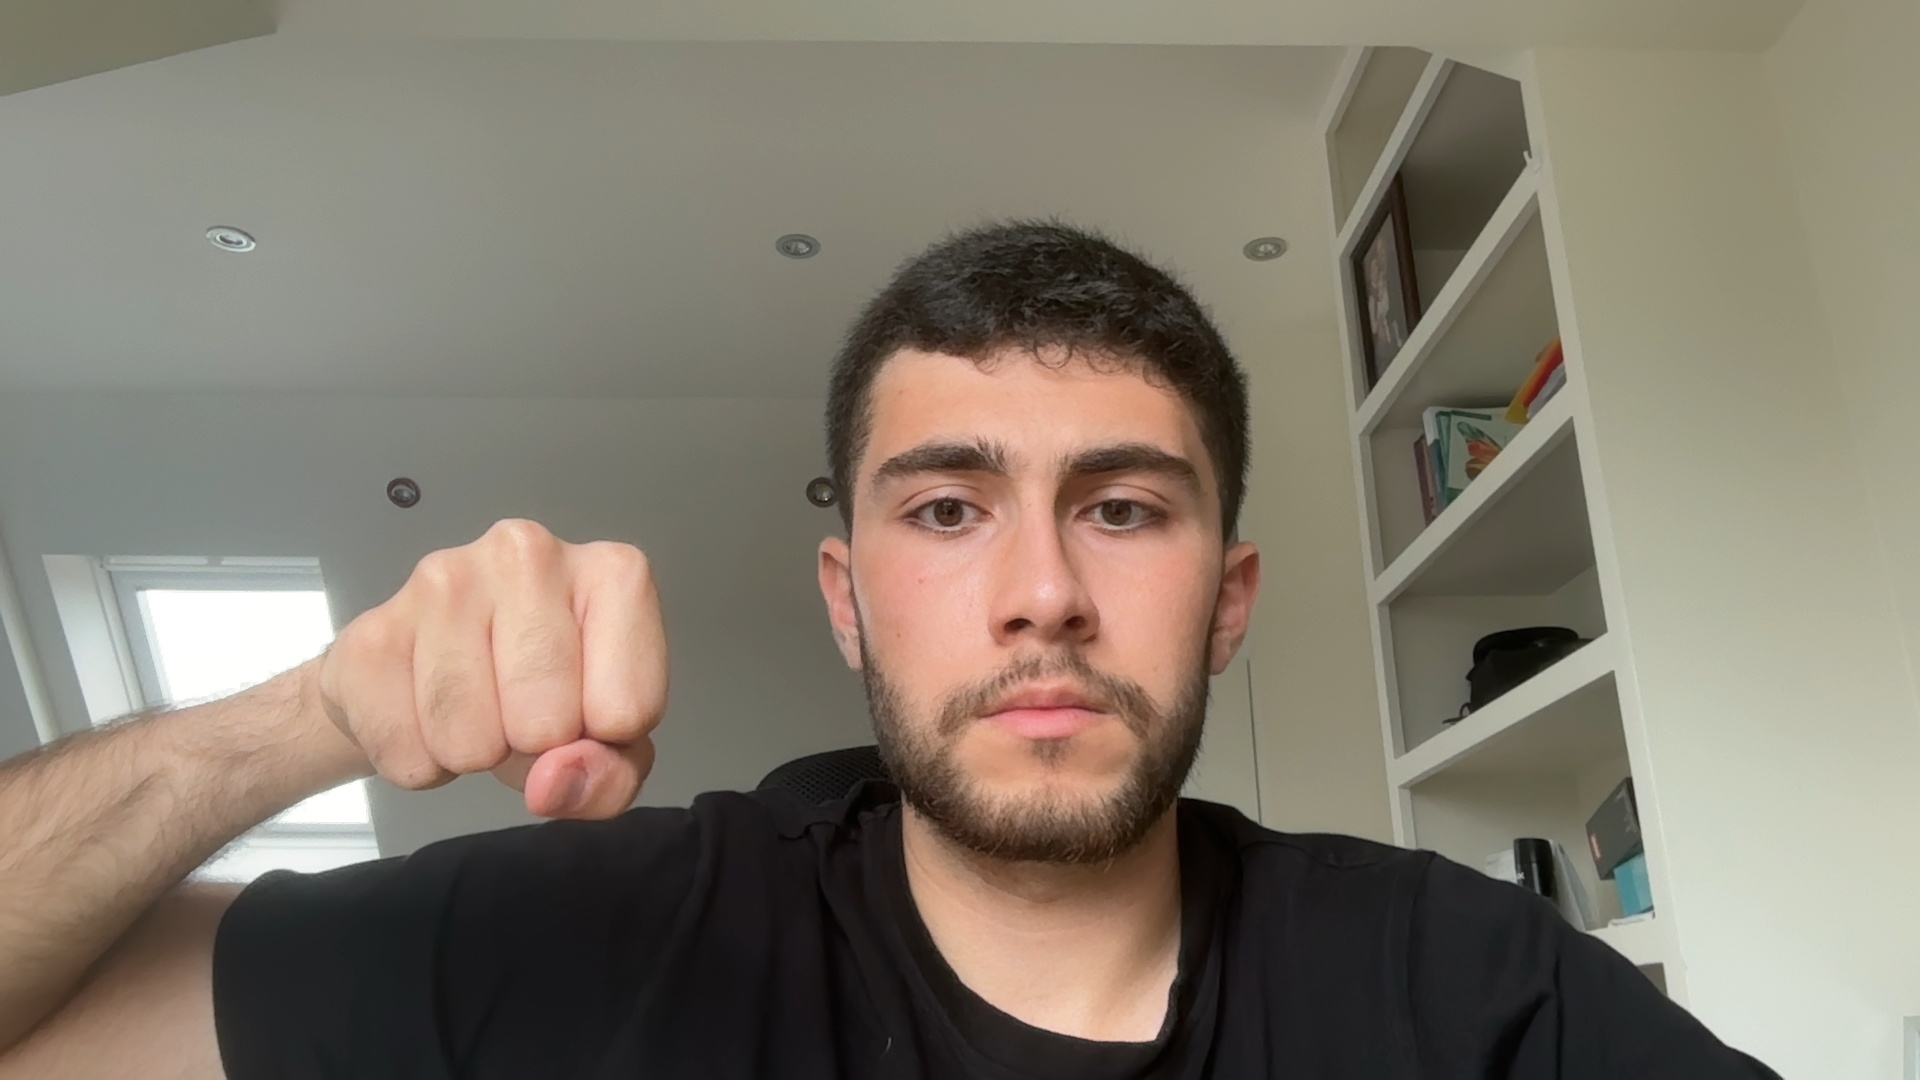yes: (290, 468, 735, 855)
